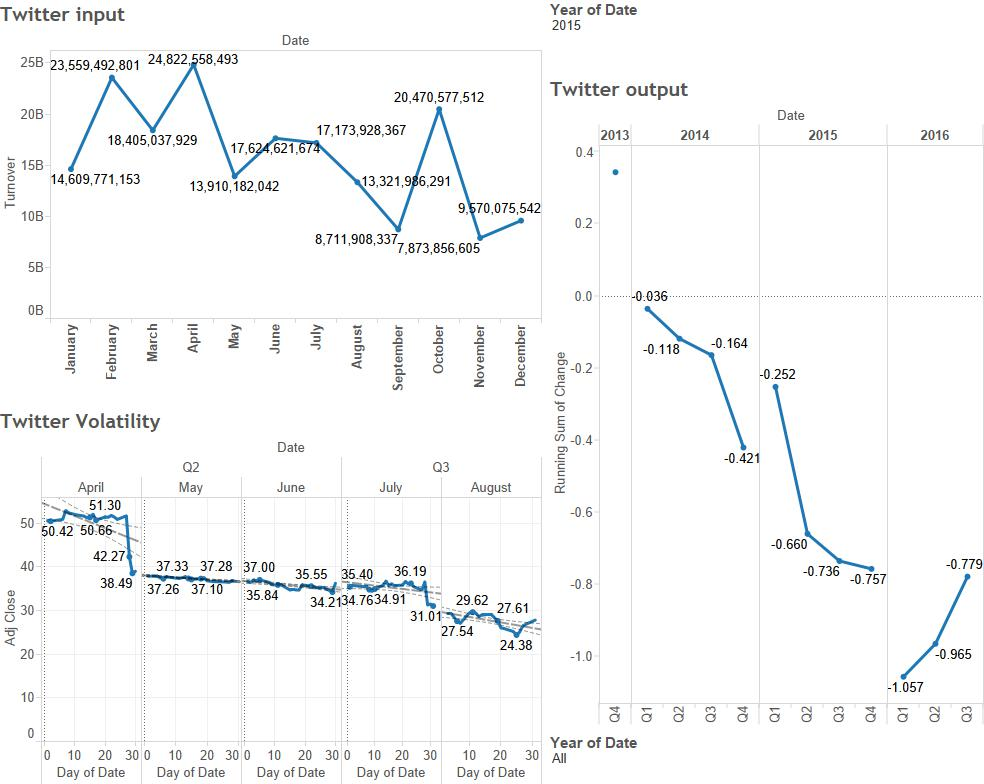

Layout of this report page (visuals, bound fields, positions):
{"tool":"tableau","page":{"name":"Twitter","canvas":[1000,800],"ordinal":2},"visuals":[{"type":"worksheet","title":"Twitter input","mark":"Line","rows":["Calculation_1153203024232251398"],"cols":["Date"],"box":[0,0,554,411]},{"type":"filter","title":"Twitter input","param":"[excel-direct.42588.885306319447].[yr:Date:ok]","box":[554,0,446,79]},{"type":"worksheet","title":"Twitter output","mark":"Line","rows":["Change"],"cols":["Date","Date"],"box":[554,79,446,658]},{"type":"worksheet","title":"twitter volatility","mark":"Automatic","rows":["Adj Close"],"cols":["Date","Date","Date"],"box":[0,411,554,389]},{"type":"filter","title":"Twitter output","param":"[excel-direct.42588.892646469911].[yr:Date:ok]","box":[554,737,446,59]}]}

Visuals, with their boxes in screenshot pixels (x1, y1, x2, y2), scaled from the page's 1000x800 canvas onto the 984x784 screenshot:
"Twitter input" worksheet (Line marks): select_region(0, 0, 545, 403)
"Twitter input" filter: select_region(545, 0, 983, 77)
"Twitter output" worksheet (Line marks): select_region(545, 77, 983, 722)
"twitter volatility" worksheet: select_region(0, 403, 545, 783)
"Twitter output" filter: select_region(545, 722, 983, 780)
